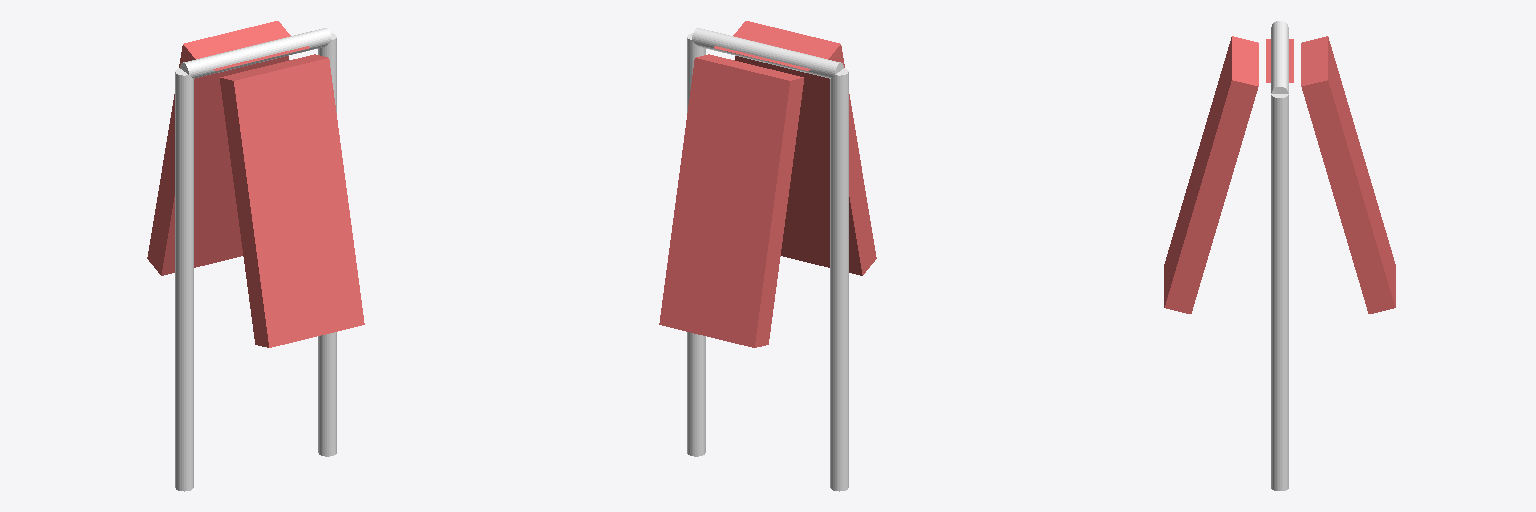
robot.urdf — simple_flap:
<?xml version="1.0"?>
<robot name="simple_flap">
  <!-- Middle bar (base_link) -->
  <link name="middle_bar">
    <visual>
      <origin xyz="0 0 0.25" rpy="0 1.5708 0"/>
      <geometry>
        <cylinder radius="0.005" length="0.09"/>
      </geometry>
      <material name="gray">
        <color rgba="1.0 1.0 1.0 1.0"/>
      </material>
    </visual>
    <collision>
      <origin xyz="0 0 0.25" rpy="0 1.5708 0"/>
      <geometry>
        <cylinder radius="0.005" length="0.09"/>
      </geometry>
    </collision>
    <inertial>
      <mass value="1.0"/>
      <origin xyz="0 0 0" rpy="0 0 0"/>
      <inertia 
         ixx="0.0001" ixy="0.0" ixz="0.0"
         iyy="0.0001" iyz="0.0"
         izz="0.0001"/>
    </inertial>
  </link>
    

  <!-- Left bar -->
  <link name="left_bar">
    <visual>
      <origin xyz="-0.045 0 0.125" rpy="0 0 0"/>
      <geometry>
        <cylinder radius="0.005" length="0.25"/>
      </geometry>
      <material name="gray">
        <color rgba="1.0 1.0 1.0 1.0"/>
      </material>
    </visual>
    <collision>
      <origin xyz="-0.045 0 0.125" rpy="0 0 0"/>
      <geometry>
        <cylinder radius="0.005" length="0.25"/>
      </geometry>
    </collision>
    <inertial>
      <mass value="0.5"/>
      <origin xyz="0 0 0" rpy="0 0 0"/>
      <inertia 
         ixx="0.005" ixy="0.0" ixz="0.0"
         iyy="0.005" iyz="0.0"
         izz="0.005"/>
    </inertial>
  </link>
    
  <joint name="joint_left_bar" type="fixed">
    <parent link="middle_bar"/>
    <child link="left_bar"/>
    <origin xyz="0 0 0" rpy="0 0 0"/>
    <axis xyz="1 0 0"/>
    
    
  </joint>
    

  <!-- Right bar -->
  <link name="right_bar">
    <visual>
      <origin xyz="0.045 0 0.125" rpy="0 0 0"/>
      <geometry>
        <cylinder radius="0.005" length="0.25"/>
      </geometry>
      <material name="gray">
        <color rgba="1.0 1.0 1.0 1.0"/>
      </material>
    </visual>
    <collision>
      <origin xyz="0.045 0 0.125" rpy="0 0 0"/>
      <geometry>
        <cylinder radius="0.005" length="0.25"/>
      </geometry>
    </collision>
    <inertial>
      <mass value="0.5"/>
      <origin xyz="0 0 0" rpy="0 0 0"/>
      <inertia 
         ixx="0.005" ixy="0.0" ixz="0.0"
         iyy="0.005" iyz="0.0"
         izz="0.005"/>
    </inertial>
  </link>
    
  <joint name="joint_right_bar" type="fixed">
    <parent link="middle_bar"/>
    <child link="right_bar"/>
    <origin xyz="0 0 0" rpy="0 0 0"/>
    <axis xyz="1 0 0"/>
    
    
  </joint>
    

  <!-- Main flap panel -->
  <link name="flap_panel">
    <visual>
      <origin xyz="0 0 0.0" rpy="0 0 0"/>
      <geometry>
        <box size="0.06 0.016 0.0"/>
      </geometry>
      <material name="box_color_flap_panel">
        <color rgba="1.0 0.5 0.5 1.0"/>
      </material>
    </visual>
    <collision>
      <origin xyz="0 0 0.0" rpy="0 0 0"/>
      <geometry>
        <box size="0.06 0.016 0.0"/>
      </geometry>
    </collision>
    <inertial>
      <mass value="0.001"/>
      <origin xyz="0 0 0" rpy="0 0 0"/>
      <inertia
         ixx="0.0001" ixy="0.0" ixz="0.0"
         iyy="0.0001" iyz="0.0"
         izz="0.0001"/>
    </inertial>
  </link>
    
  <joint name="flap_hinge_joint" type="continuous">
    <parent link="middle_bar"/>
    <child link="flap_panel"/>
    <origin xyz="0 0 0.25" rpy="0 0 0"/>
    <axis xyz="1 0 0"/>
    <dynamics damping="0.001" friction="0.001"/>
    <limit lower="-3.141592653589793" upper="3.141592653589793"/>
  </joint>
    

  <!-- Short flap 1 -->
  <link name="short_flap1">
    <visual>
      <origin xyz="0 0 -0.075" rpy="0 0 0"/>
      <geometry>
        <box size="0.06 0.016 0.15"/>
      </geometry>
      <material name="box_color_short_flap1">
        <color rgba="1.0 0.5 0.5 1.0"/>
      </material>
    </visual>
    <collision>
      <origin xyz="0 0 -0.075" rpy="0 0 0"/>
      <geometry>
        <box size="0.06 0.016 0.15"/>
      </geometry>
    </collision>
    <inertial>
      <mass value="0.001"/>
      <origin xyz="0 0 0" rpy="0 0 0"/>
      <inertia
         ixx="0.0005" ixy="0.0" ixz="0.0"
         iyy="0.0005" iyz="0.0"
         izz="0.0005"/>
    </inertial>
  </link>
    
  <joint name="short_flap1_joint" type="fixed">
    <parent link="flap_panel"/>
    <child link="short_flap1"/>
    <origin xyz="0 0.02 0" rpy="0.2617993877991494 0 0"/>
    <axis xyz="1 0 0"/>
    
    
  </joint>
    

  <!-- Short flap 2 -->
  <link name="short_flap2">
    <visual>
      <origin xyz="0 0 -0.075" rpy="0 0 0"/>
      <geometry>
        <box size="0.06 0.016 0.15"/>
      </geometry>
      <material name="box_color_short_flap2">
        <color rgba="1.0 0.5 0.5 1.0"/>
      </material>
    </visual>
    <collision>
      <origin xyz="0 0 -0.075" rpy="0 0 0"/>
      <geometry>
        <box size="0.06 0.016 0.15"/>
      </geometry>
    </collision>
    <inertial>
      <mass value="0.001"/>
      <origin xyz="0 0 0" rpy="0 0 0"/>
      <inertia
         ixx="0.0005" ixy="0.0" ixz="0.0"
         iyy="0.0005" iyz="0.0"
         izz="0.0005"/>
    </inertial>
  </link>
    
  <joint name="short_flap2_joint" type="fixed">
    <parent link="flap_panel"/>
    <child link="short_flap2"/>
    <origin xyz="0 -0.02 0" rpy="-0.2617993877991494 0 0"/>
    <axis xyz="1 0 0"/>
    
    
  </joint>
    

</robot>

--- Render facts (derived) ---
Views: 3 orthographic renders of the robot side by side, from view 1: azimuth 30°, elevation 25°; view 2: azimuth 150°, elevation 25°; view 3: azimuth 270°, elevation 25°.
Robot: simple_flap — 6 links, 5 joints (1 continuous, 4 fixed); root link middle_bar; default pose: all joints at 0.
Links seen in each view (by area): view 1: short_flap2, short_flap1, left_bar, right_bar, middle_bar; view 2: short_flap1, short_flap2, left_bar, right_bar, middle_bar; view 3: short_flap1, short_flap2, right_bar, middle_bar.
Boxes of the visible links, x1,y1,x2,y2 form: short_flap2: (220, 54, 364, 347); short_flap1: (147, 21, 290, 275); left_bar: (175, 68, 193, 491); right_bar: (318, 33, 336, 456); middle_bar: (180, 28, 331, 78); short_flap1: (659, 54, 803, 347); short_flap2: (733, 21, 876, 275); left_bar: (830, 68, 848, 491); right_bar: (687, 33, 705, 456); middle_bar: (692, 28, 843, 78); short_flap1: (1301, 36, 1395, 313); short_flap2: (1164, 36, 1258, 313); right_bar: (1271, 94, 1288, 490); middle_bar: (1271, 21, 1288, 93).
Size in the robot's own frame: 0.1 by 0.1331 by 0.255 metres.
Geometry: primitives only (box / cylinder / sphere), no mesh files.